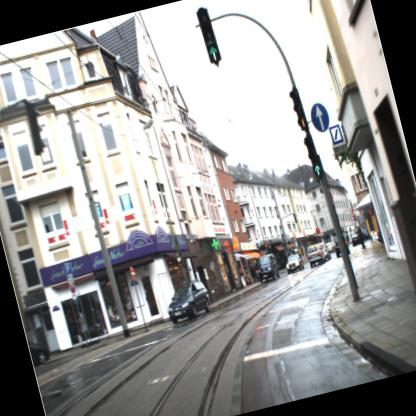mandatory: (307, 98, 334, 138)
